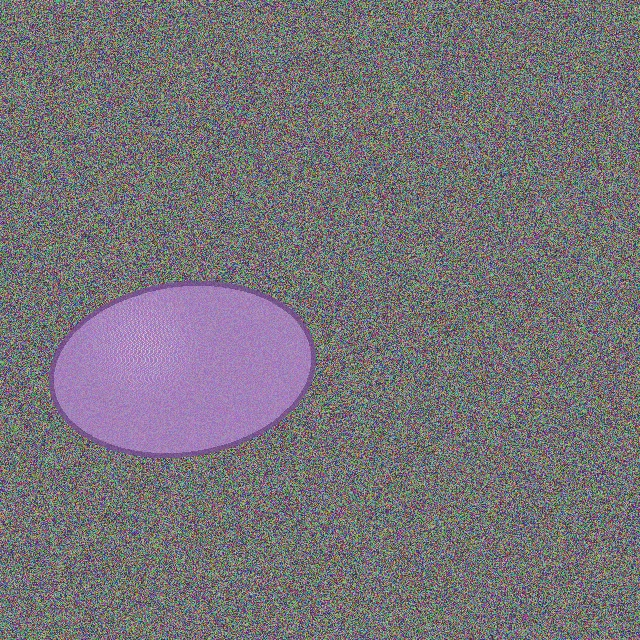lens: (51, 283, 313, 455)
